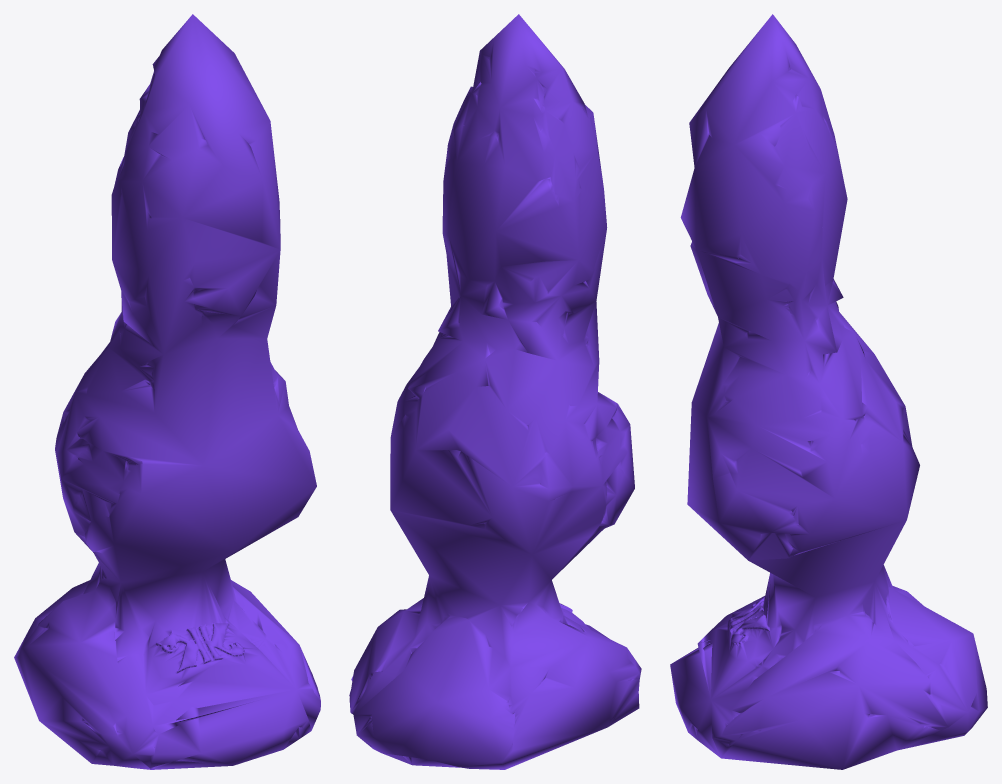
Rendered from xlarge-machine-ar.glb.
3 views of the same model, side by side, from view 1: azimuth 30°, elevation 25°; view 2: azimuth 150°, elevation 25°; view 3: azimuth 270°, elevation 25° (orthographic). The views are drawn at different scales.
Bounding box in the file's own units: 0.1173 × 0.3063 × 0.1257.
